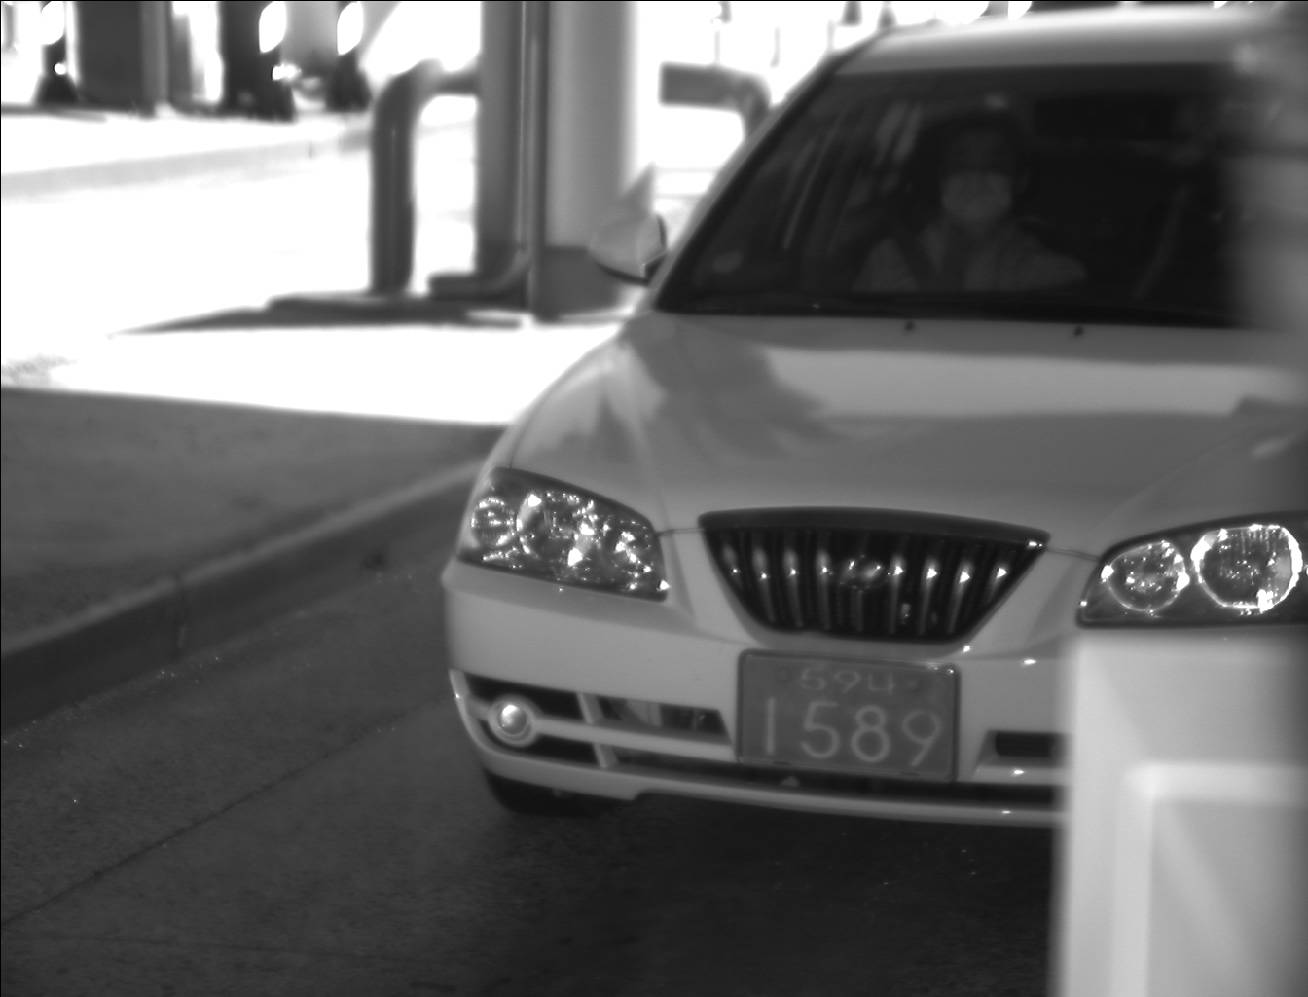car: (436, 6, 1308, 821)
plate: (731, 645, 966, 789)
